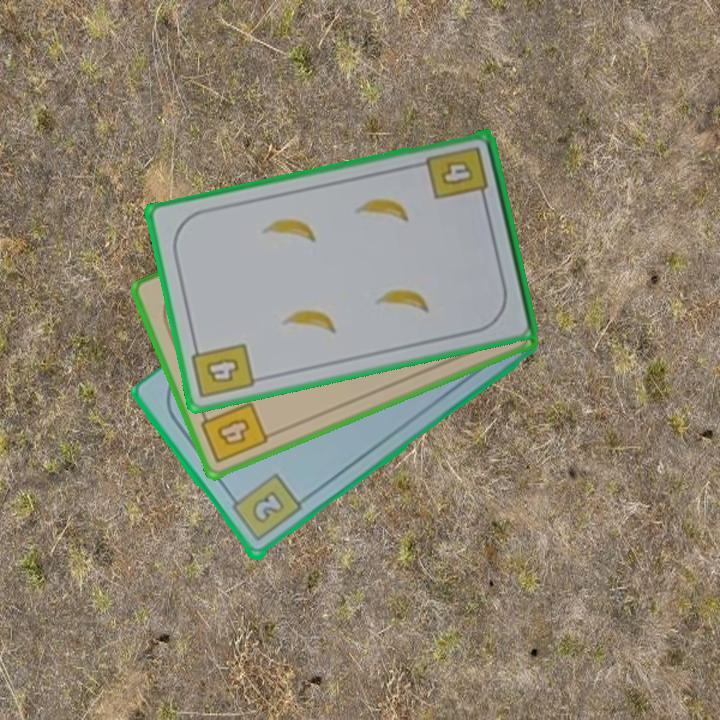2b: (225, 470, 305, 545)
4b: (196, 398, 271, 467), (188, 338, 257, 402), (423, 142, 492, 206)
